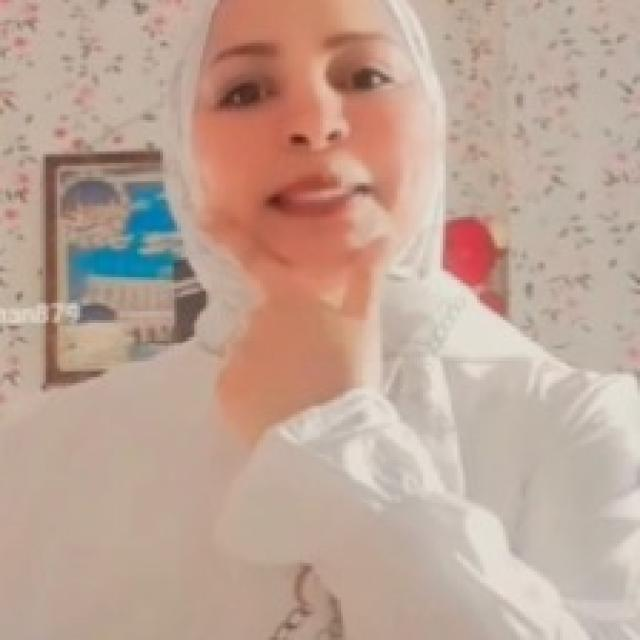smile: (197, 167, 404, 380)
